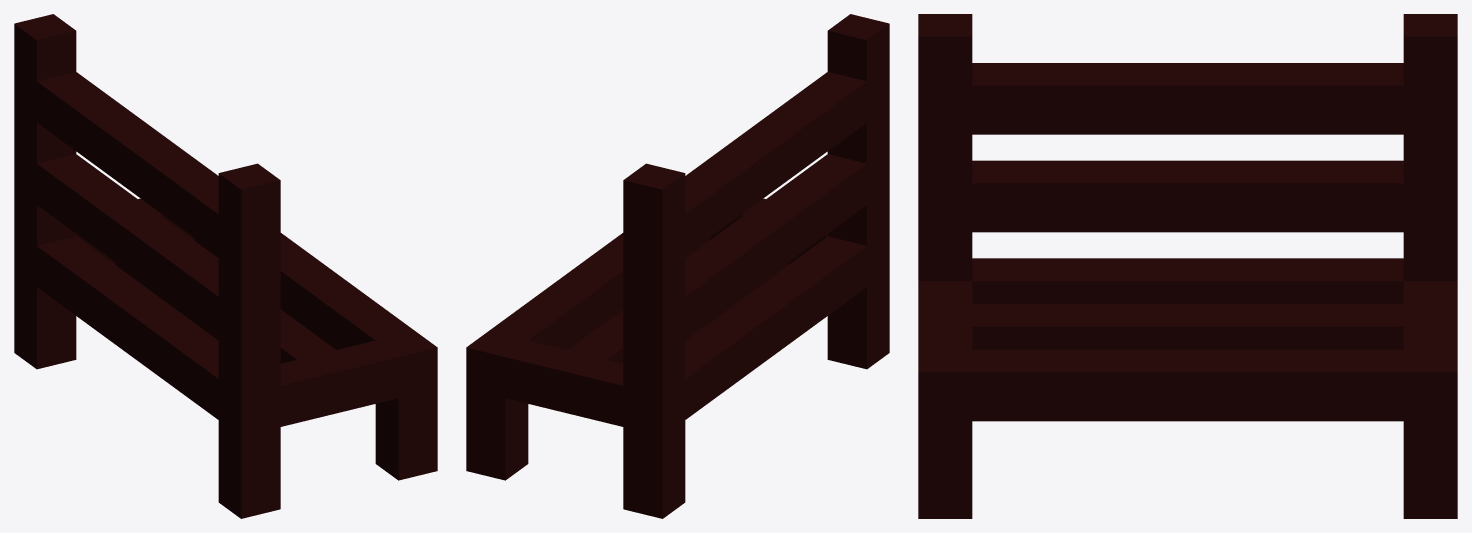
Rendered from bench.obj.
3 renders of one model, left to right at view 1: azimuth 30°, elevation 25°; view 2: azimuth 150°, elevation 25°; view 3: azimuth 270°, elevation 25°, orthographic. The views are drawn at different scales.
Bounding box in the file's own units: 0.5 × 0.8 × 1.
Materials: 1 (1 with a texture image).
